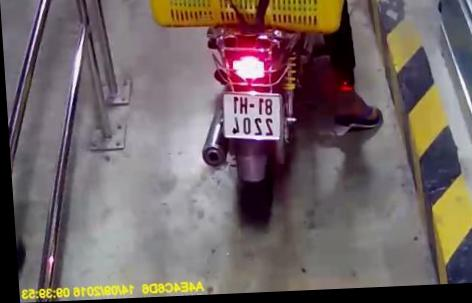License_Plate: (220, 87, 296, 149)
